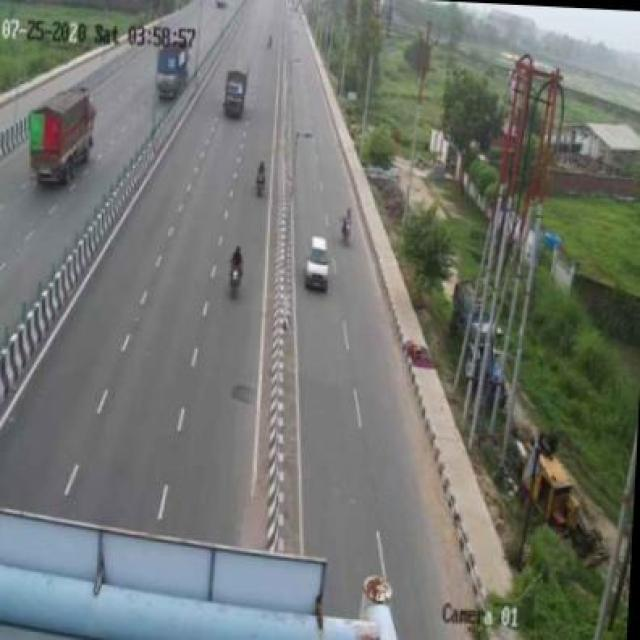car: (299, 225, 338, 294)
